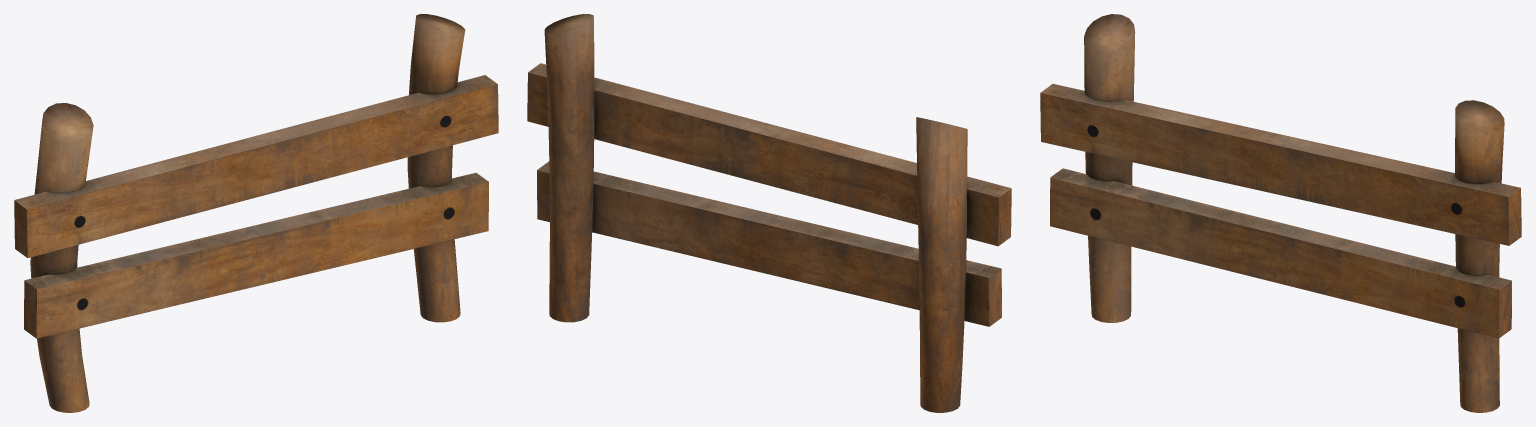
File: Pagar.fbx
The picture shows the model from 3 angles, left to right: view 1: azimuth 30°, elevation 25°; view 2: azimuth 150°, elevation 25°; view 3: azimuth 330°, elevation 25°; orthographic projection.
Parts seen in each view (by area): view 1: Cylinder.001; view 2: Cylinder.001; view 3: Cylinder.001.
Part boxes in pixels (x1,y1,x2,y2): Cylinder.001: [14, 14, 498, 412]; Cylinder.001: [527, 14, 1011, 412]; Cylinder.001: [1040, 14, 1521, 412].
Bounding box in the file's own units: 213 × 129 × 25.81.
1 material, 1 textured.
